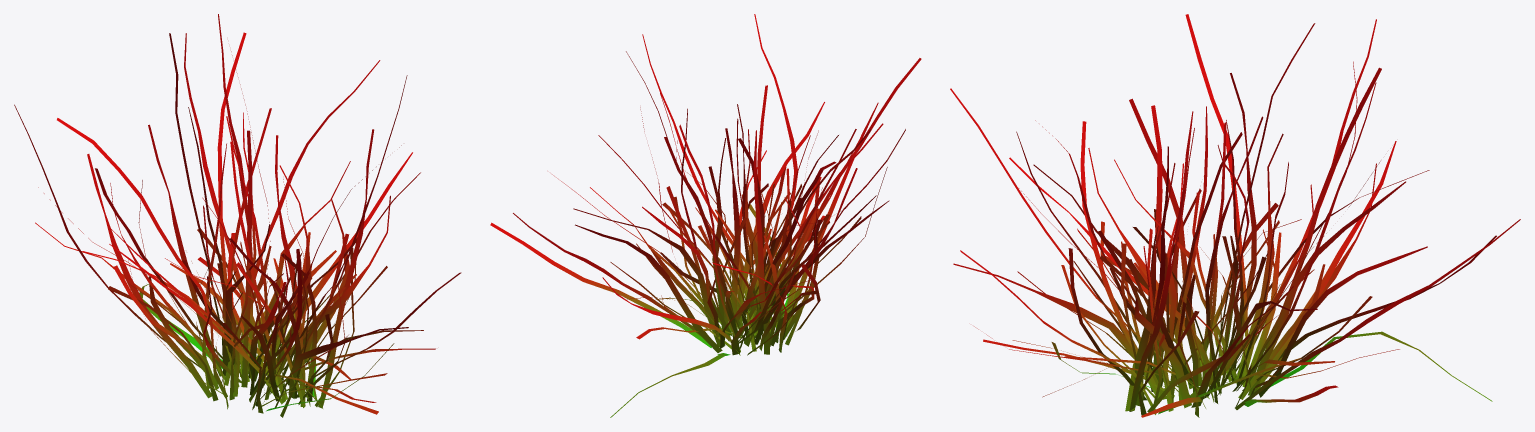
File: Var3_LOD1.fbx
3 views of the same model, side by side, from view 1: azimuth 30°, elevation 25°; view 2: azimuth 150°, elevation 25°; view 3: azimuth 270°, elevation 25° (orthographic). The views are drawn at different scales.
Parts seen in each view (by area): view 1: _x73h_Var3_LOD1; view 2: _x73h_Var3_LOD1; view 3: _x73h_Var3_LOD1.
Part boxes in pixels (x1=…): _x73h_Var3_LOD1: x1=14, y1=14, x2=461, y2=417; _x73h_Var3_LOD1: x1=490, y1=14, x2=921, y2=417; _x73h_Var3_LOD1: x1=950, y1=14, x2=1520, y2=417.
Bounding box in the file's own units: 35.88 × 27.21 × 41.47.
